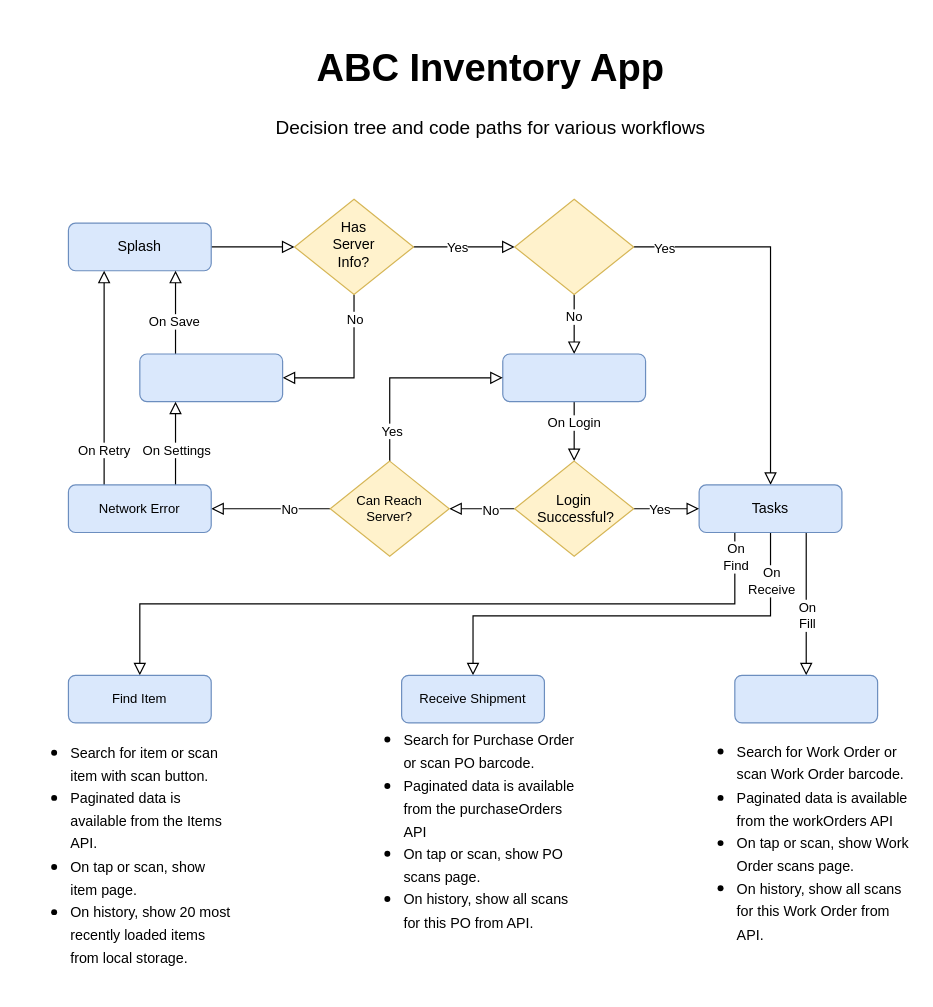
Some shapes in this 933 by 1007 pixel diagram are drawn without their labels. Each missing label, with the centre of its shape:
"Fill Order" belongs at (806,698).
"Is signed in?" belongs at (573,246).
"Login" belongs at (574,377).
"Server Settings" belongs at (211,377).
